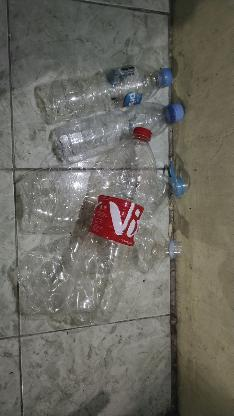Plastic Bottle: (11, 52, 174, 332)
